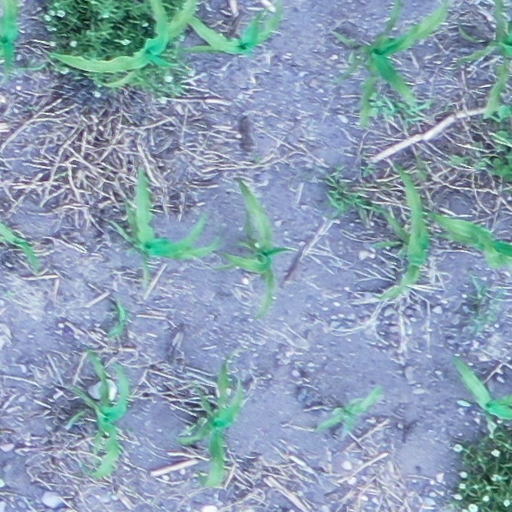planta: (219, 174, 296, 321), (112, 165, 223, 261), (173, 361, 242, 489), (372, 160, 428, 301), (70, 347, 128, 480), (426, 210, 511, 270), (311, 383, 381, 438), (452, 358, 511, 422)
